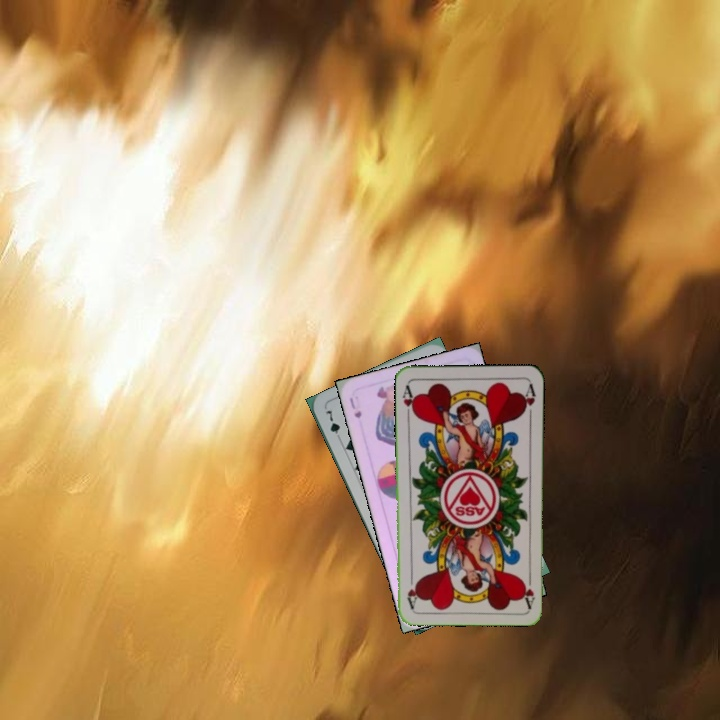G7: (322, 405, 344, 444)
HA: (399, 381, 418, 421), (519, 569, 537, 609)
SU: (345, 393, 364, 421)
